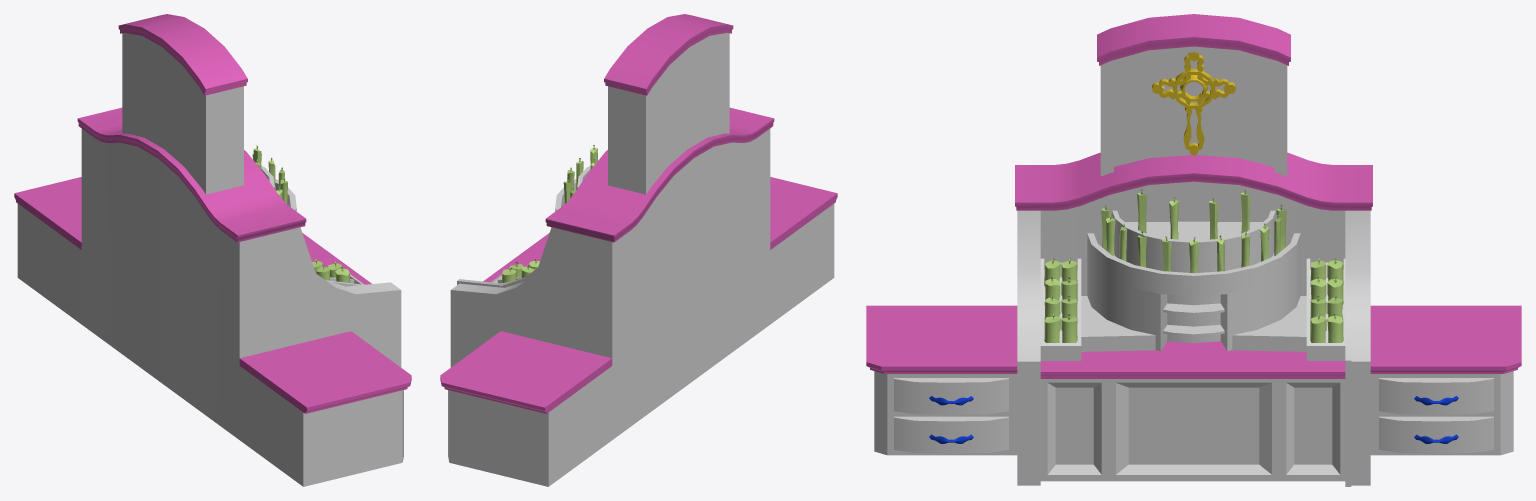
Rendered from Candle Desk Cleanup COMB.fbx.
The picture shows the model from 3 angles, left to right: view 1: azimuth 30°, elevation 25°; view 2: azimuth 150°, elevation 25°; view 3: azimuth 270°, elevation 25°; orthographic projection. The views are drawn at different scales.
Parts seen in each view (by area): view 1: Layer 1; view 2: Layer 1; view 3: Layer 1.
Boxes of the visible parts, x1,y1,x2,y2 form: Layer 1: (14, 14, 411, 486); Layer 1: (440, 14, 837, 486); Layer 1: (866, 14, 1521, 486).
Size of the model in its own units: 231 by 454 by 702.
